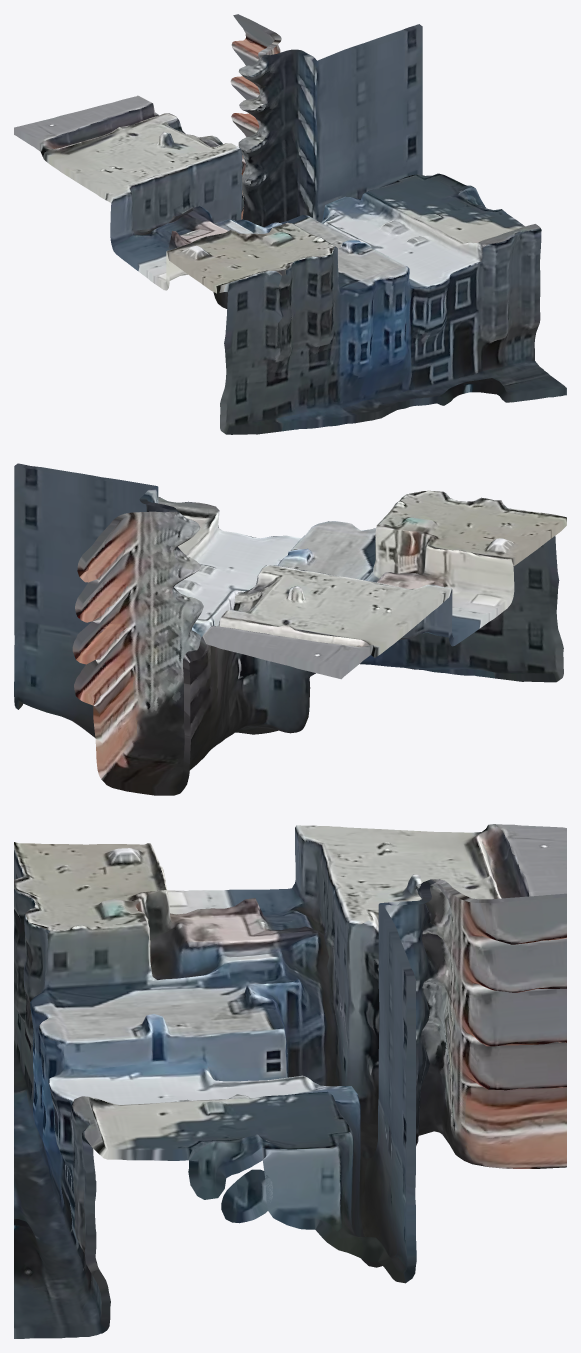
Rendered from z20-167731-405196-h0-yup-uvflip-v3-world.glb.
3 renders of one model, top to bottom at view 1: azimuth 30°, elevation 25°; view 2: azimuth 150°, elevation 25°; view 3: azimuth 270°, elevation 25°, orthographic. The views are drawn at different scales.
Bounding box in the file's own units: 30.16 × 21.68 × 30.32.
Materials: 1 (1 with a texture image).
